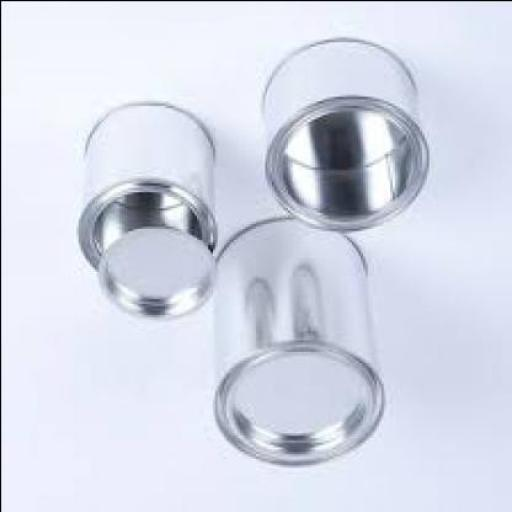metal: (210, 220, 380, 466), (255, 39, 426, 234), (75, 102, 212, 273), (91, 230, 212, 319)
